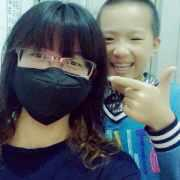NONE: (98, 20, 159, 81)
OK: (17, 31, 99, 113)
